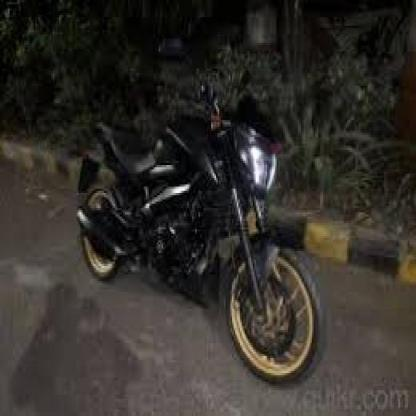bike: (75, 101, 328, 383)
